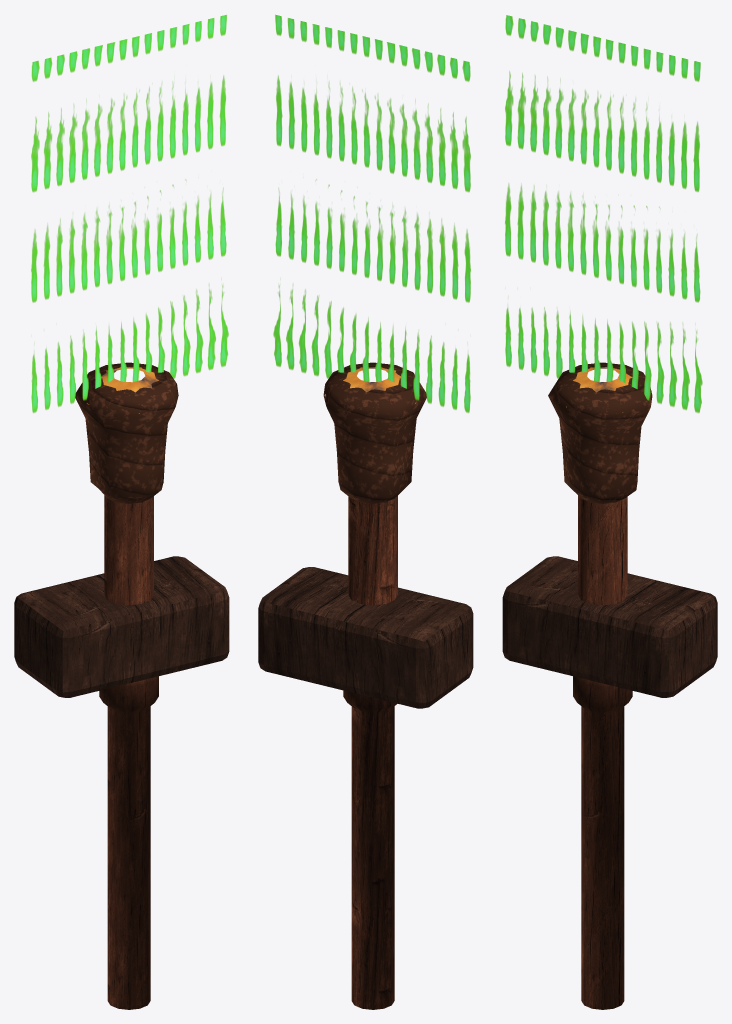
Rendered from mm7_deco_torch01_green.glb.
The picture shows the model from 3 angles, left to right: view 1: azimuth 30°, elevation 25°; view 2: azimuth 150°, elevation 25°; view 3: azimuth 330°, elevation 25°; orthographic projection.
Parts seen in each view (by area): view 1: Torch01; view 2: Torch01; view 3: Torch01.
Boxes of the visible parts, box(x1,y1,x2,y2) form: Torch01: box(14, 15, 229, 1009); Torch01: box(258, 14, 473, 1009); Torch01: box(502, 15, 717, 1009).
Bounding box in the file's own units: 0.3427 × 1.57 × 0.175.
Materials: 5 (5 with a texture image).
